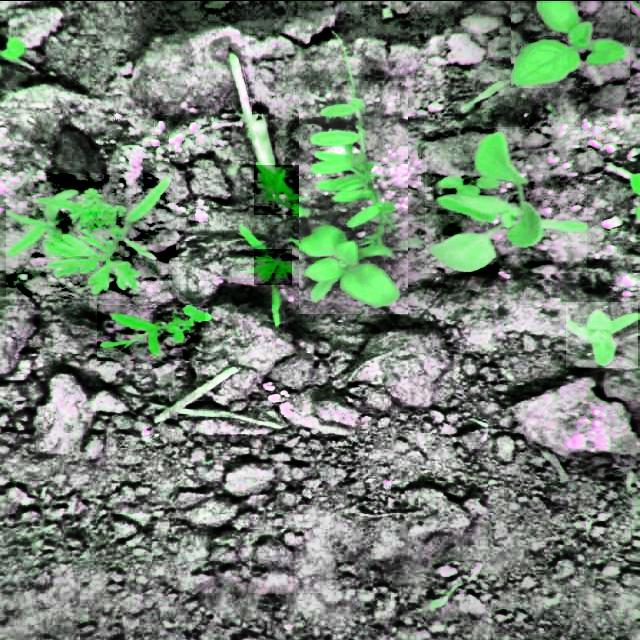Weeds: (299, 86, 408, 312), (425, 126, 587, 272), (511, 0, 630, 86), (566, 301, 638, 367)
undefined: (6, 172, 179, 298), (98, 304, 208, 359), (254, 164, 306, 214), (254, 248, 292, 284)
